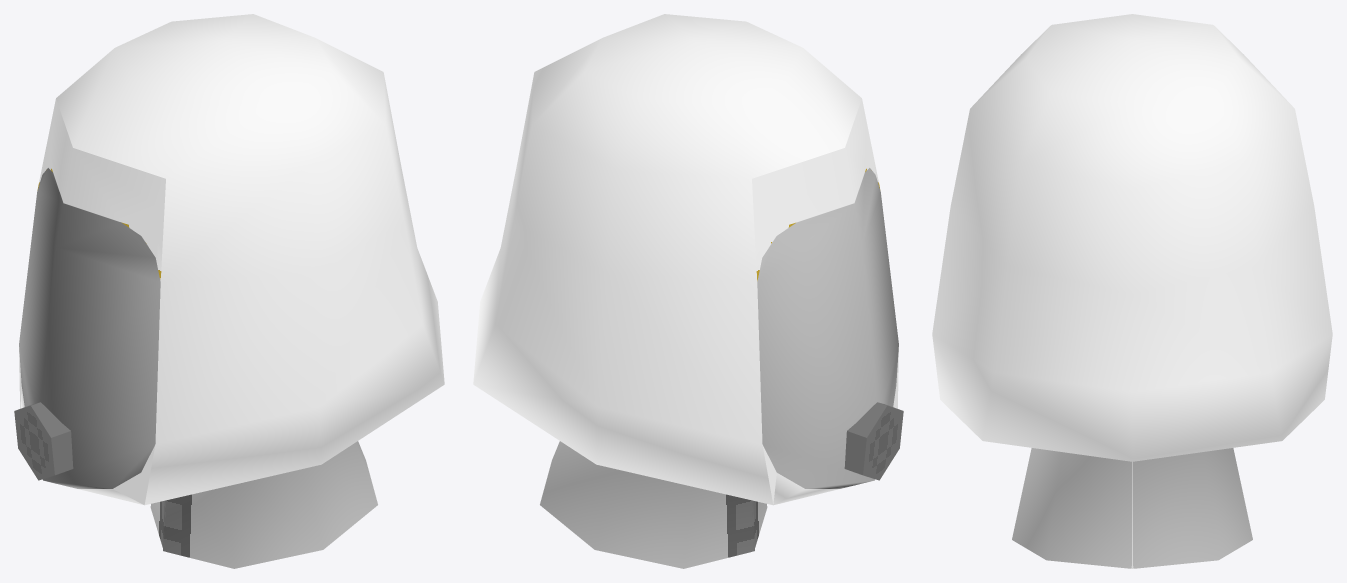
The model's file is Head2.glb.
The picture shows the model from 3 angles, left to right: view 1: azimuth 30°, elevation 25°; view 2: azimuth 150°, elevation 25°; view 3: azimuth 270°, elevation 25°; orthographic projection.
Parts seen in each view (by area): view 1: Sphere.016; view 2: Sphere.016; view 3: Sphere.016.
Part boxes in pixels (bbox=[...]): Sphere.016: bbox=[14, 14, 444, 568]; Sphere.016: bbox=[473, 14, 903, 568]; Sphere.016: bbox=[932, 14, 1332, 568].
Size of the model in its own units: 0.288 by 0.3348 by 0.2425.
1 material, 1 textured.
